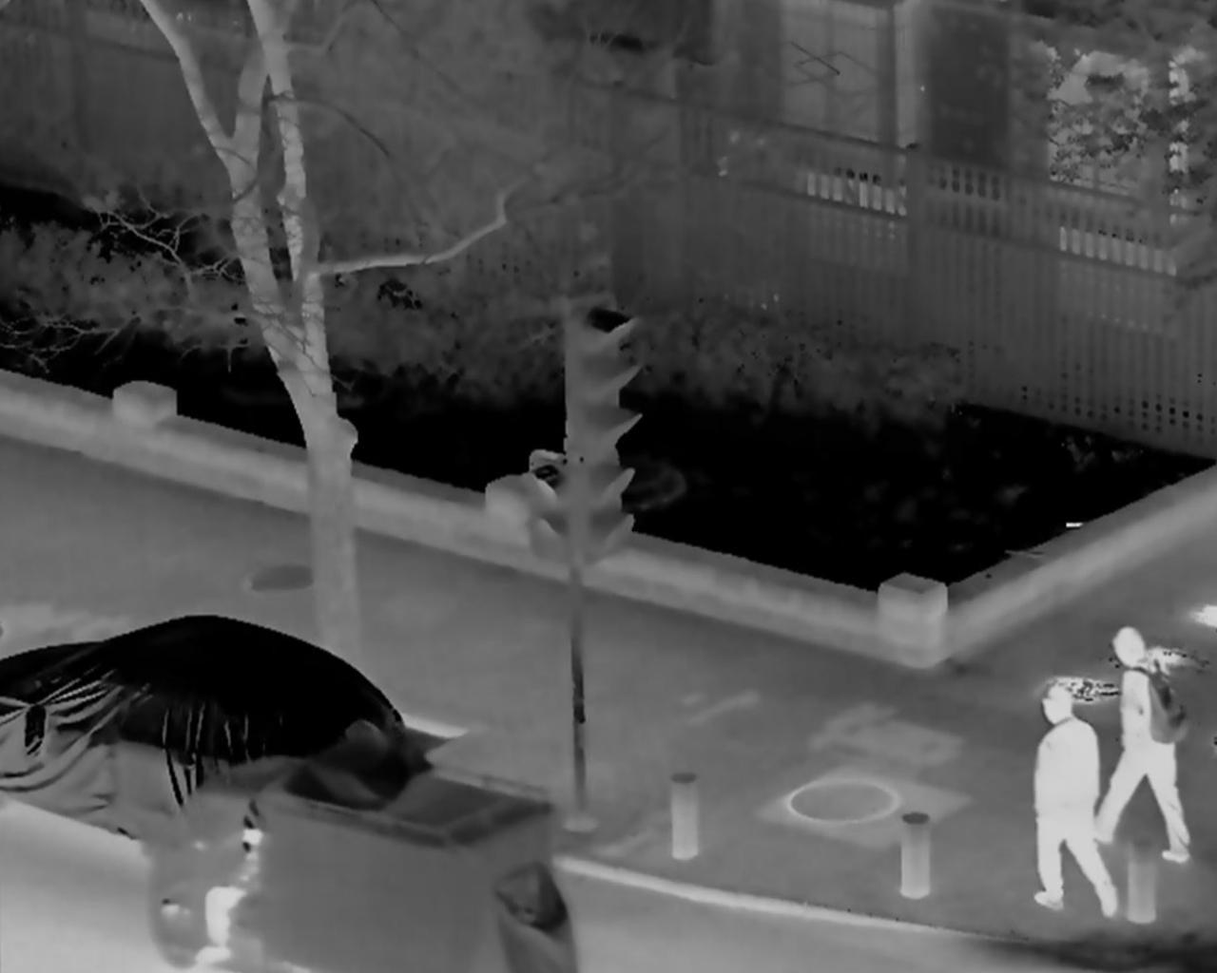person: (1092, 627, 1194, 869), (1014, 682, 1116, 921), (198, 821, 266, 969)
